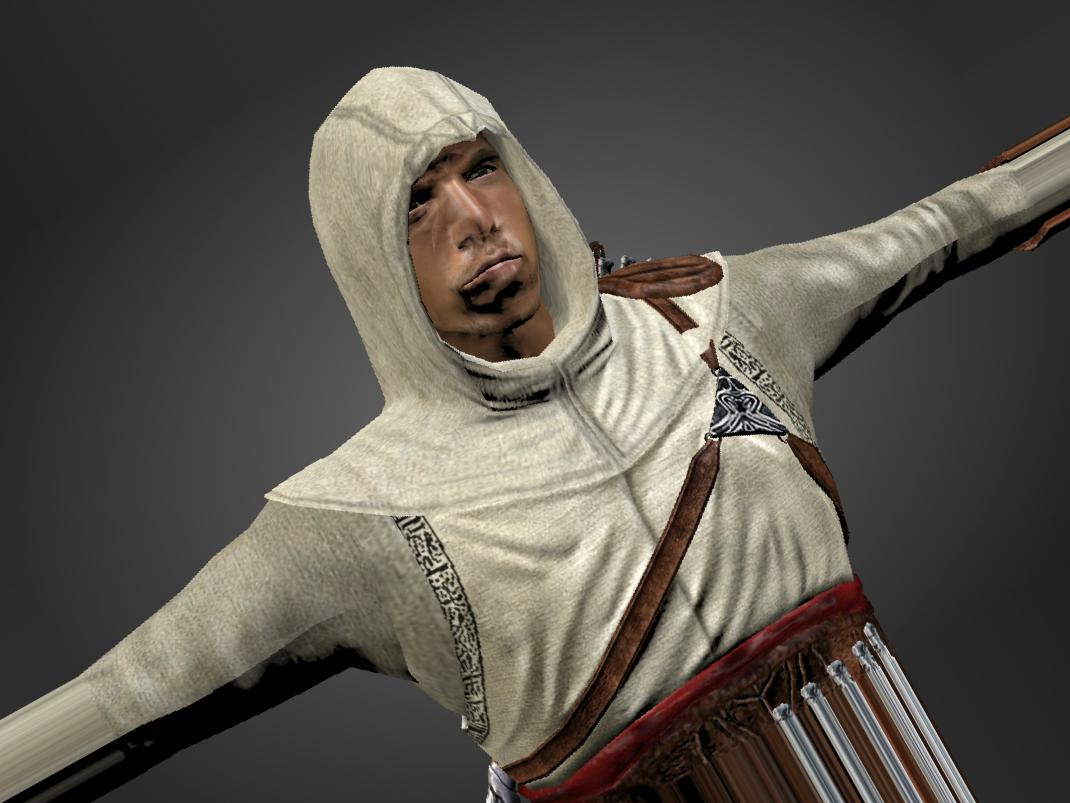clip: (679, 320, 731, 363)
